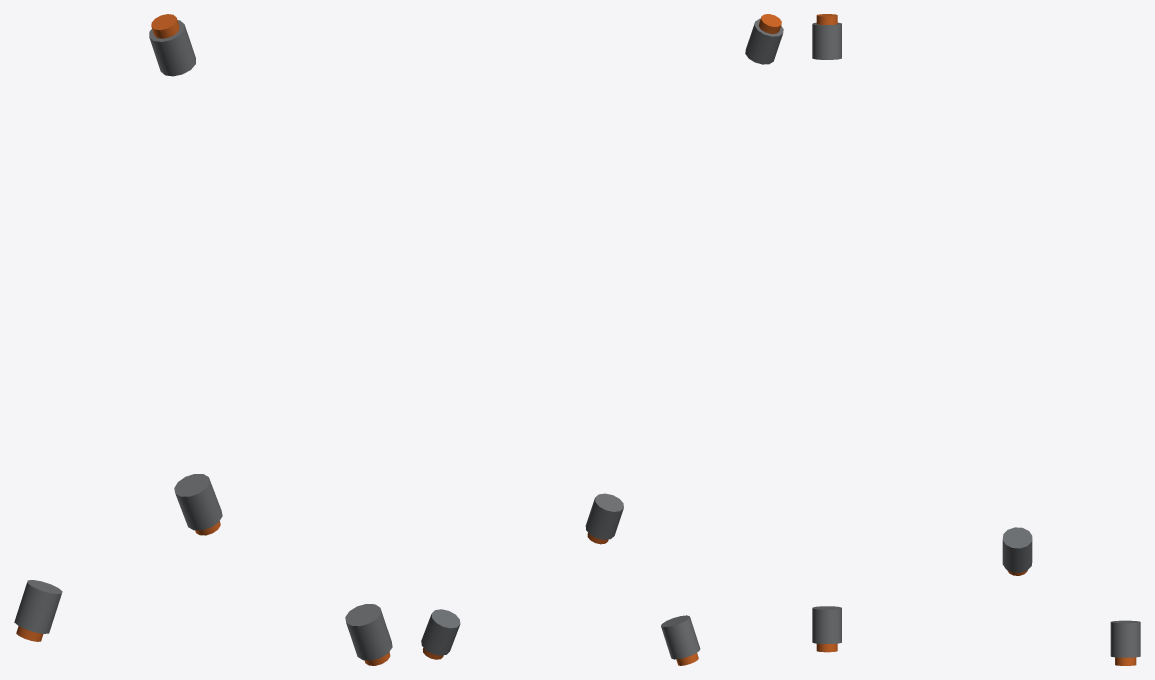
The model's file is u65m_sensors.obj.
3 views of the same model, side by side, from view 1: azimuth 30°, elevation 25°; view 2: azimuth 150°, elevation 25°; view 3: azimuth 270°, elevation 25° (orthographic). The views are drawn at different scales.
Visible parts, largest first — view 1: u65m_sensors; view 2: u65m_sensors; view 3: u65m_sensors.
Boxes of the visible parts, left/top/right/bottom form: u65m_sensors: left=14, top=14, right=392, bottom=665; u65m_sensors: left=421, top=14, right=783, bottom=665; u65m_sensors: left=812, top=14, right=1140, bottom=665.
Bounding box in the file's own units: 1.16 × 2.89 × 1.52.
